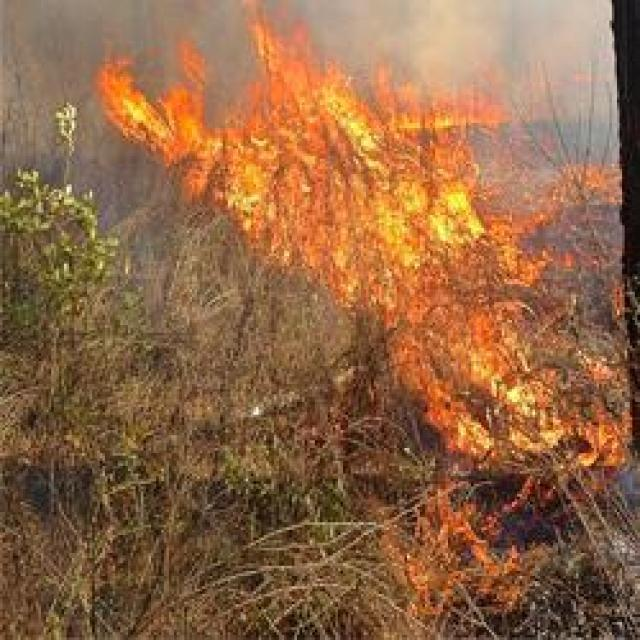Fire: (93, 1, 635, 472), (384, 478, 522, 620)
Smoke: (101, 5, 623, 107), (454, 106, 626, 252), (2, 0, 92, 198)
